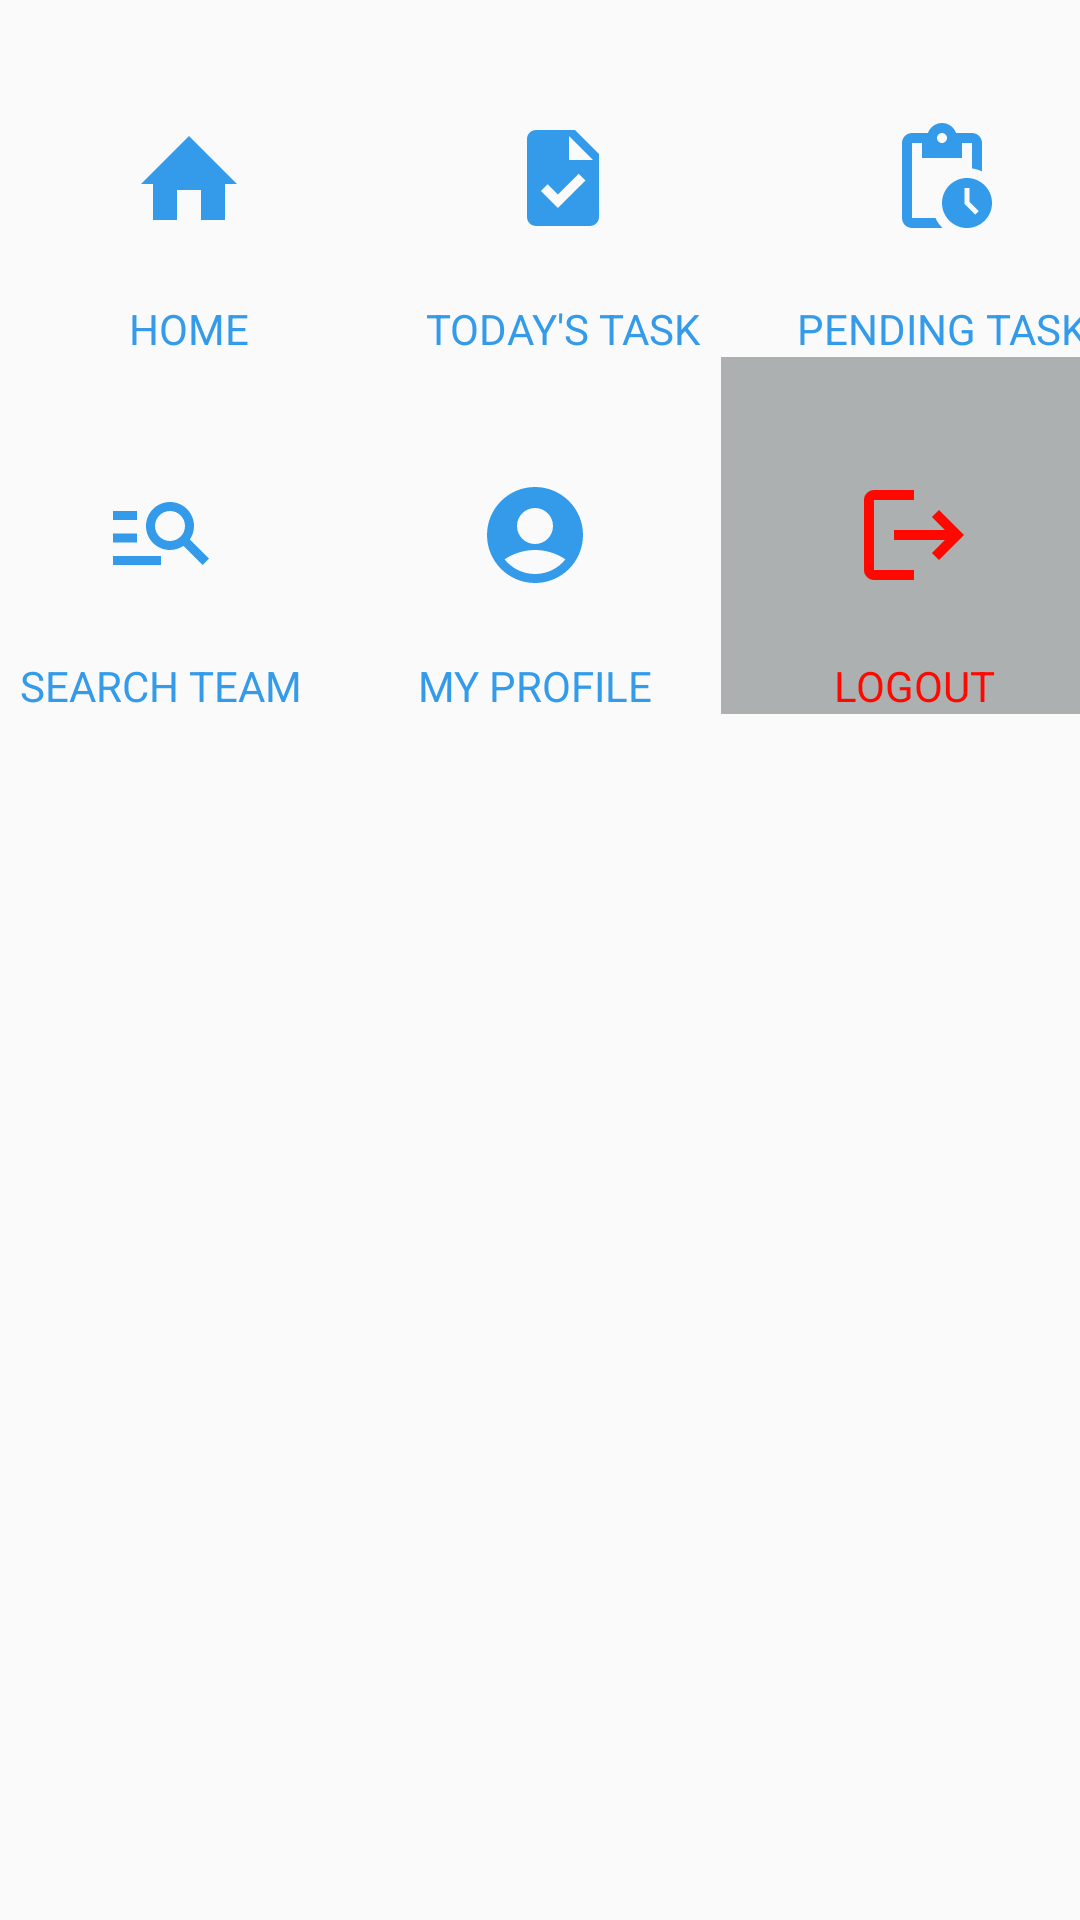

Icons on this 1080 × 1920 Android screen, each with the point to tap as (x=x, y=y):
pending actions: (x=947, y=175)
